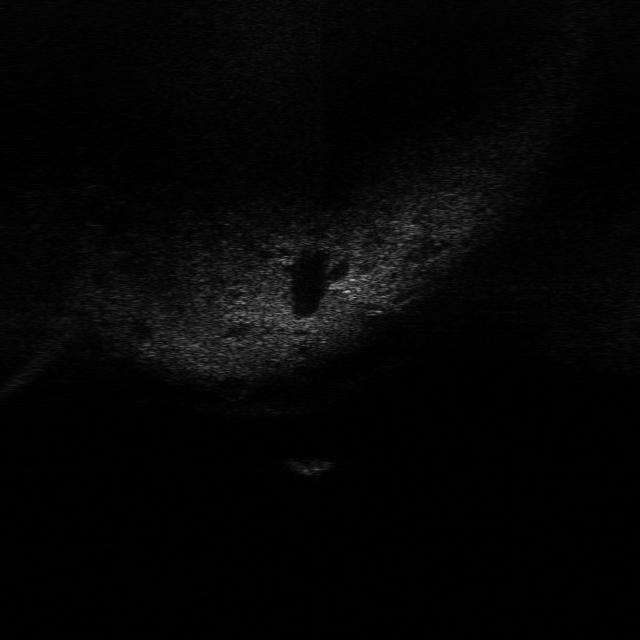cube: (282, 455, 338, 477)
